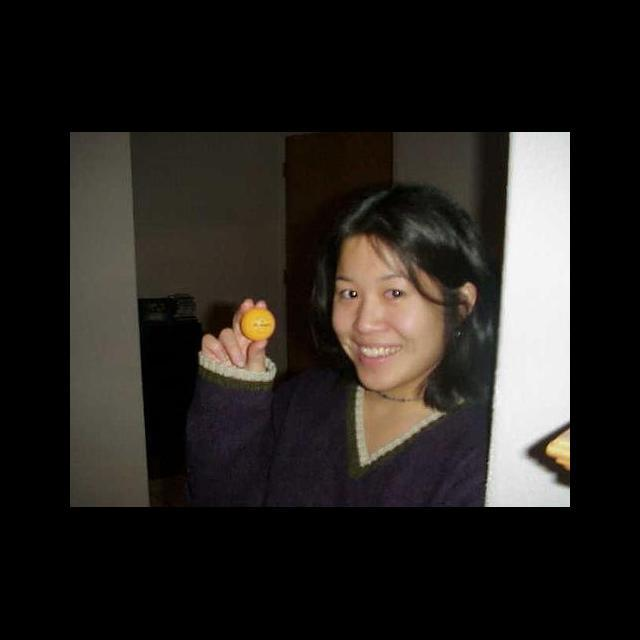ping-pong-ball: (239, 308, 277, 342)
